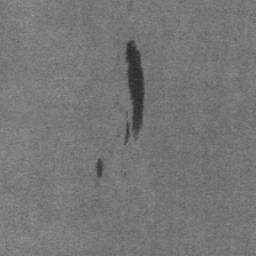Iron scale compression: (124, 40, 145, 145), (96, 159, 103, 179)
